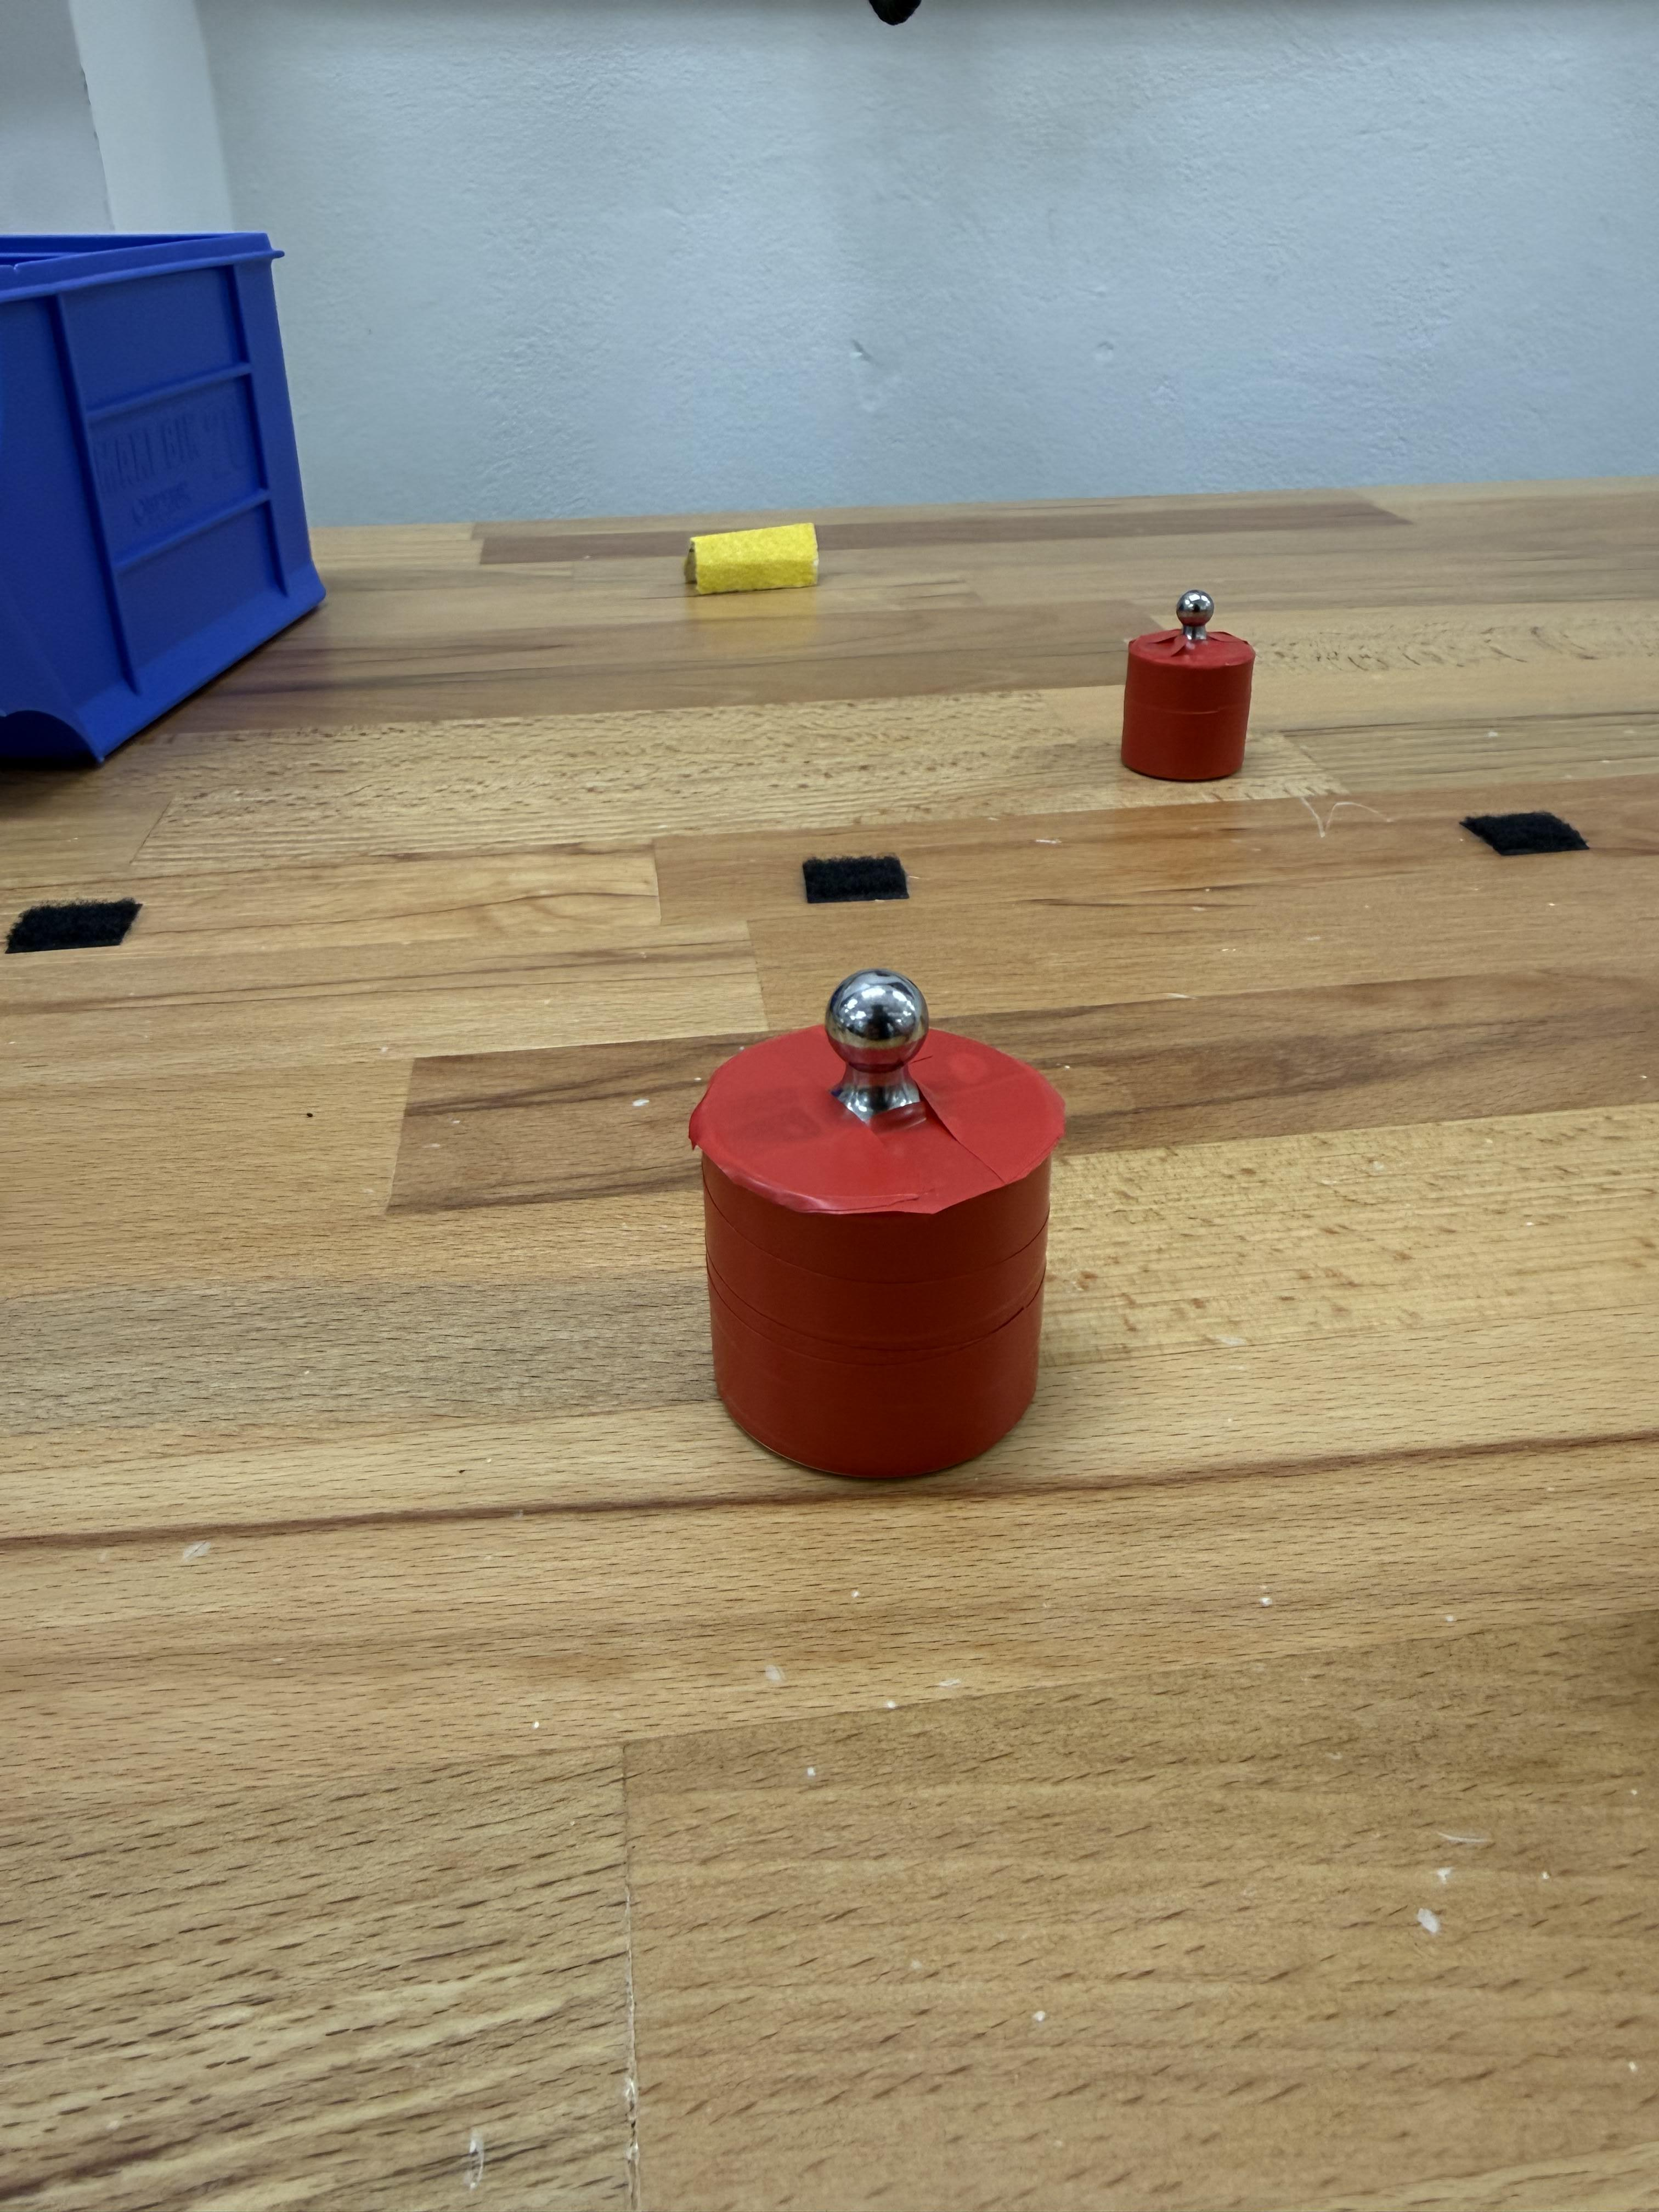red_object: (674, 967, 1101, 1498), (1103, 594, 1276, 796)
